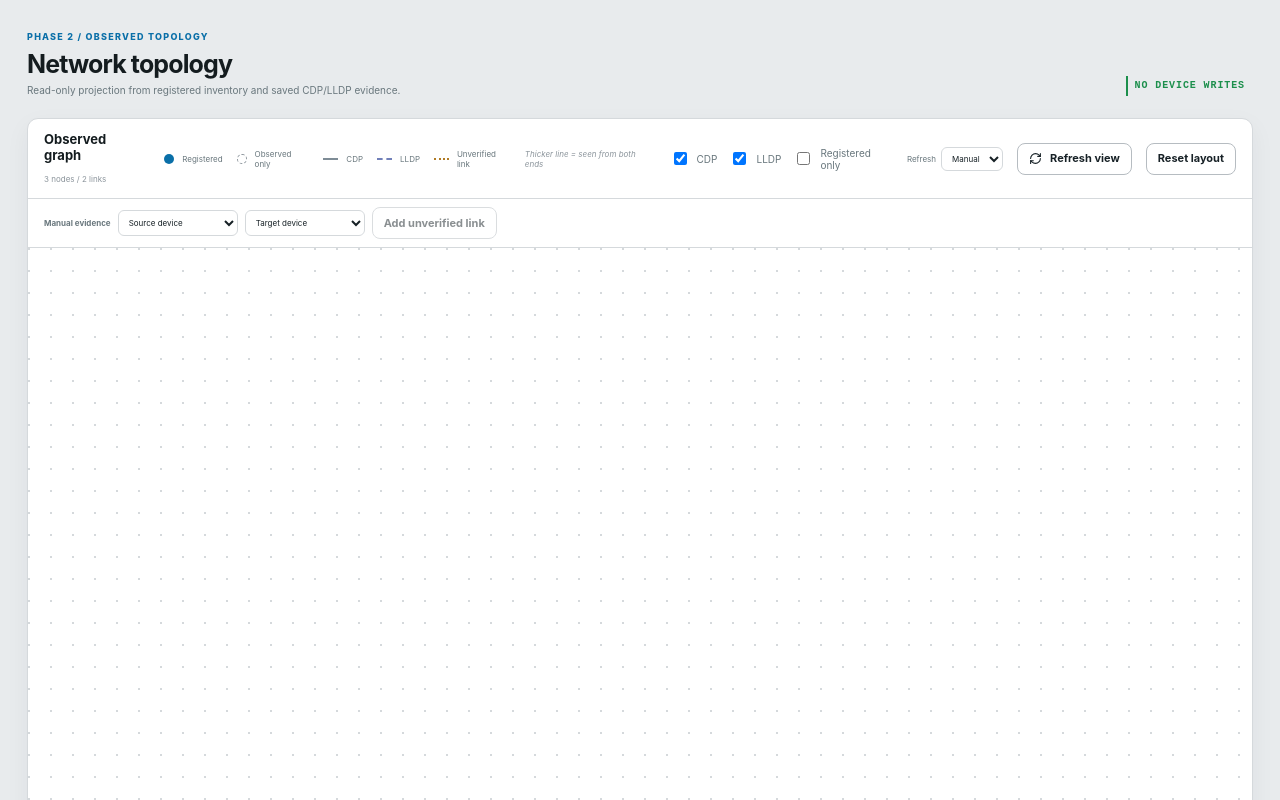
Scenario: TopologyPage read-only projection › hides links and nodes touching an unregistered device when Registered only is checked
Expected: the text "3 nodes / 2 links" is shown, [44,174,106,184]
Click the checkbox labelled "Registered only": (804, 158) [797,152,810,165]
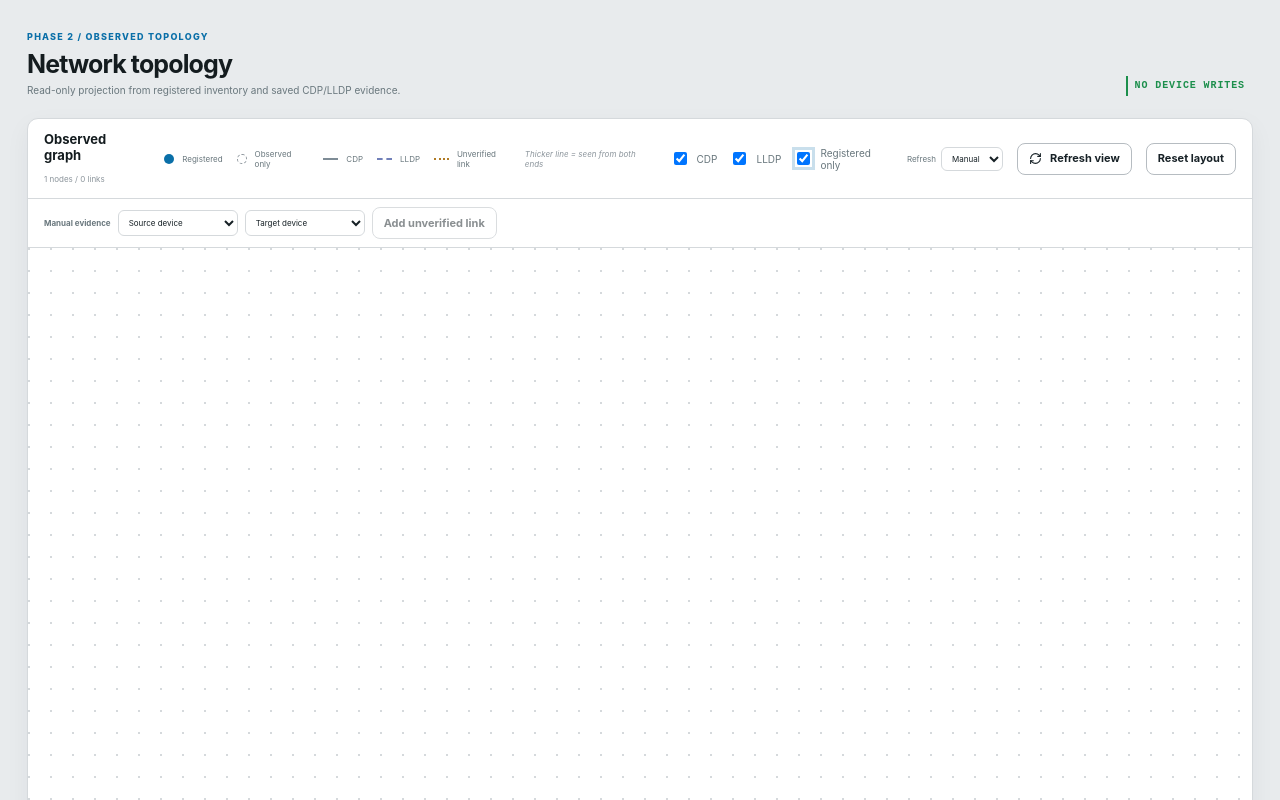
Expected: the text "1 nodes / 0 links" is shown, [44,174,105,184]
